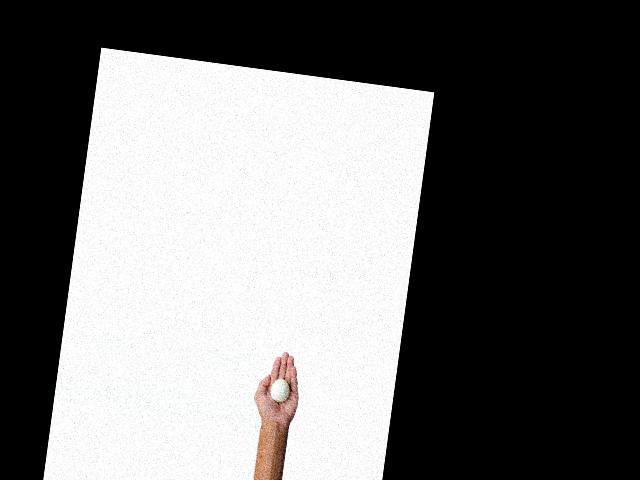egg: (269, 376, 291, 402)
